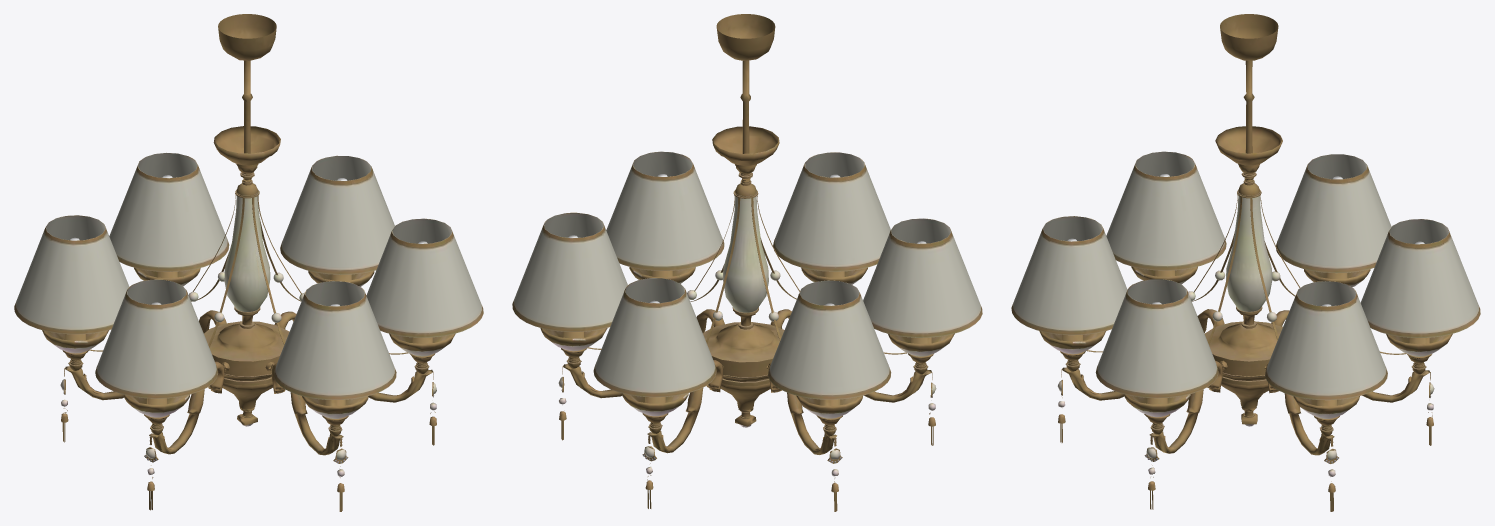
Rendered from chandelier_01.glb.
3 renders of one model, left to right at view 1: azimuth 30°, elevation 25°; view 2: azimuth 150°, elevation 25°; view 3: azimuth 270°, elevation 25°, orthographic.
Parts seen in each view (by area): view 1: Chandelier_01; view 2: Chandelier_01; view 3: Chandelier_01.
Boxes of the visible parts, left/top/right/bottom form: Chandelier_01: left=14, top=14, right=483, bottom=511; Chandelier_01: left=512, top=14, right=982, bottom=511; Chandelier_01: left=1011, top=14, right=1480, bottom=511.
Bounding box in the file's own units: 0.7465 × 0.7982 × 0.8155.
Materials: 2 (1 with a texture image).
